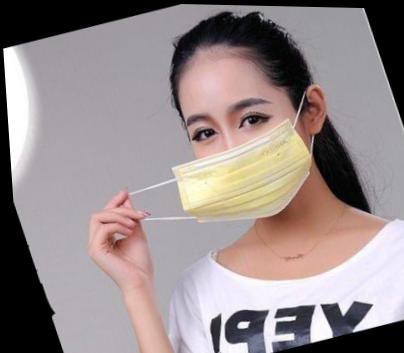WRONG: (173, 75, 331, 234)
